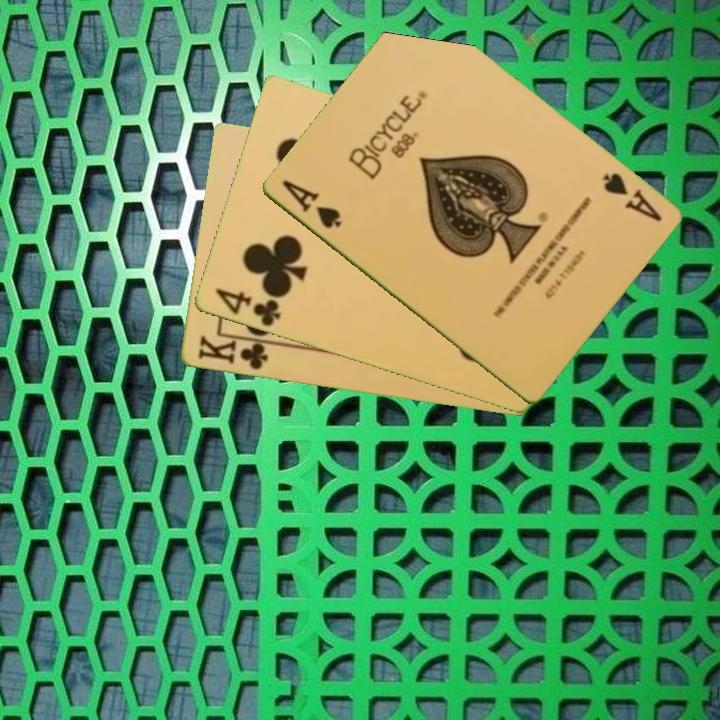4c: (211, 285, 283, 330)
As: (277, 176, 344, 232), (598, 169, 665, 225)
Kc: (194, 331, 276, 373)
